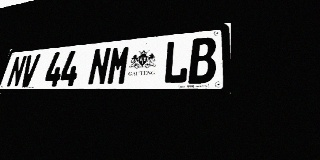4: (58, 50, 82, 86), (43, 51, 66, 87)
B: (188, 37, 217, 84)
L: (162, 39, 190, 84)
M: (106, 45, 132, 85)
N: (87, 47, 112, 86), (6, 55, 28, 87)
V: (19, 54, 41, 87)
